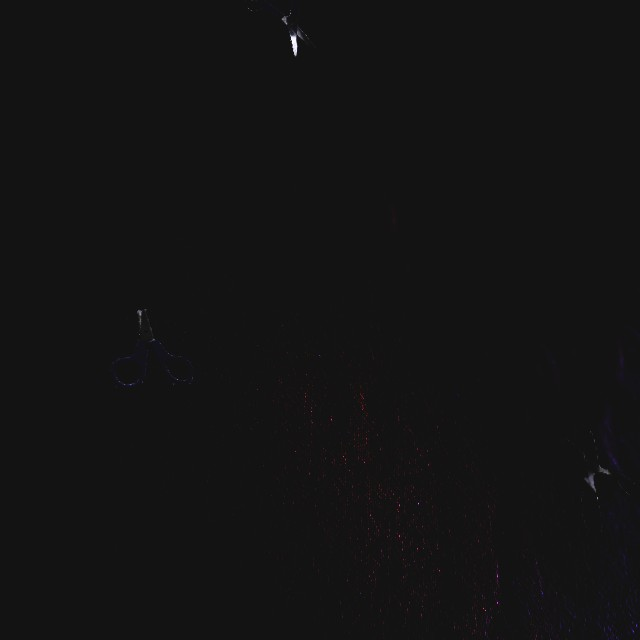scissors: (565, 431, 635, 532), (109, 308, 193, 388), (245, 0, 316, 57)
